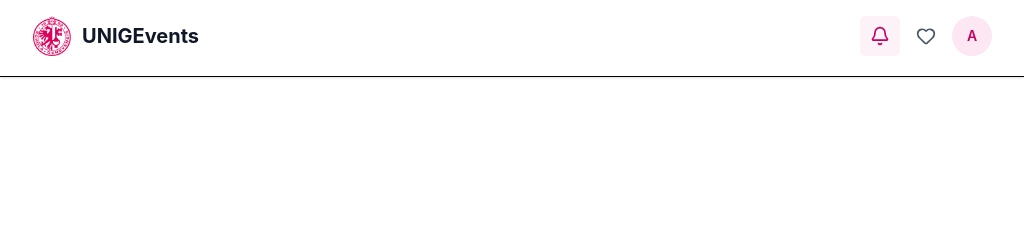
Test: Navbar › renders authenticated navigation and supports logout
Click the button named "Menu utilisateur".
click(972, 36)  # box left=952, top=16, right=992, bottom=56
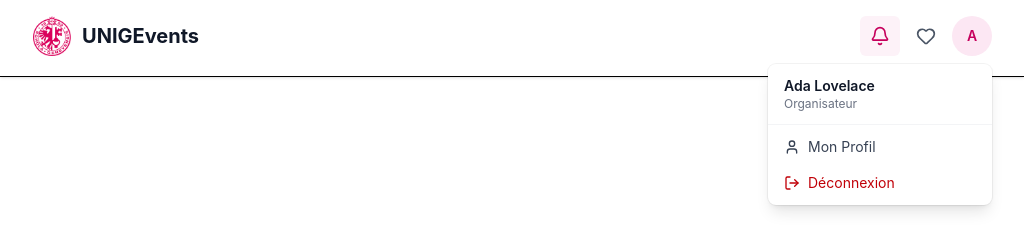
Expected: the link "Mon Profil" is shown, left=784, top=138, right=876, bottom=155
Click the button "Déconnexion".
click(880, 183)  # box left=768, top=165, right=992, bottom=201
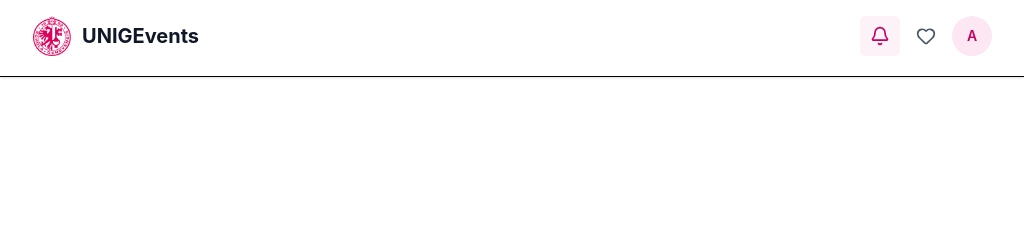
Expected: the link "Mon Profil" is gone
